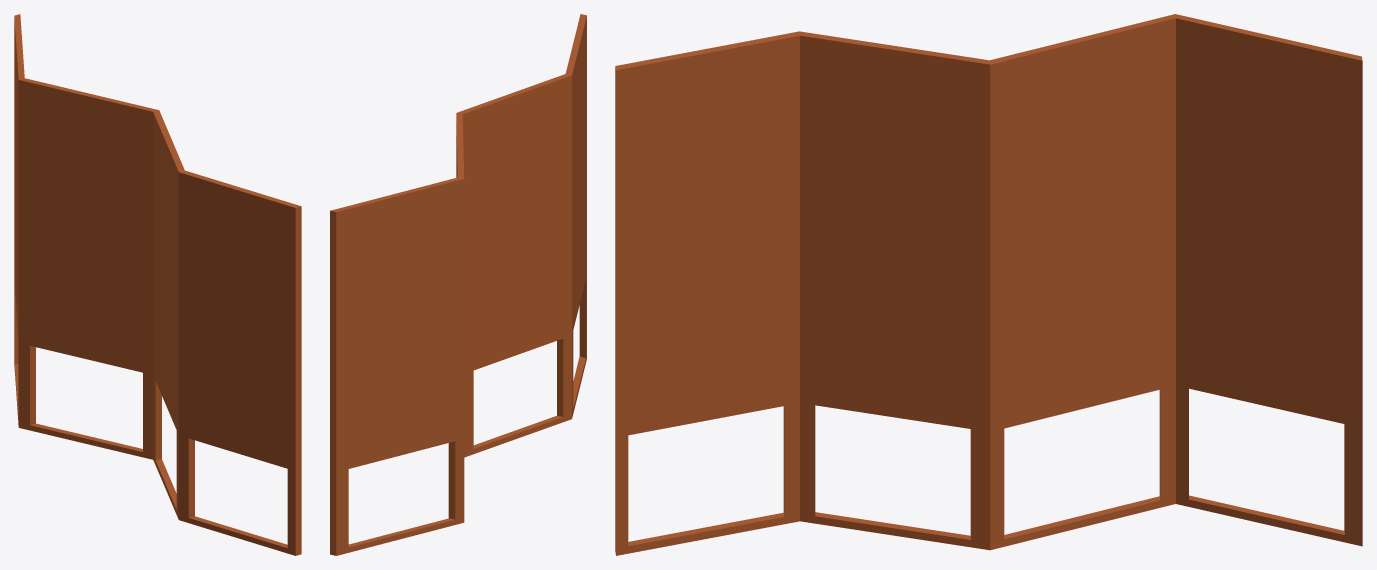
File: expositor2.fbx
3 views of the same model, side by side, from view 1: azimuth 30°, elevation 25°; view 2: azimuth 150°, elevation 25°; view 3: azimuth 270°, elevation 25° (orthographic). The views are drawn at different scales.
Parts seen in each view (by area): view 1: Plane; view 2: Plane; view 3: Plane.
Part boxes in pixels (x1,y1,x2,y2): Plane: (14, 14, 301, 555); Plane: (330, 14, 586, 555); Plane: (615, 14, 1362, 555).
Size of the model in its own units: 133 by 537 by 748.
